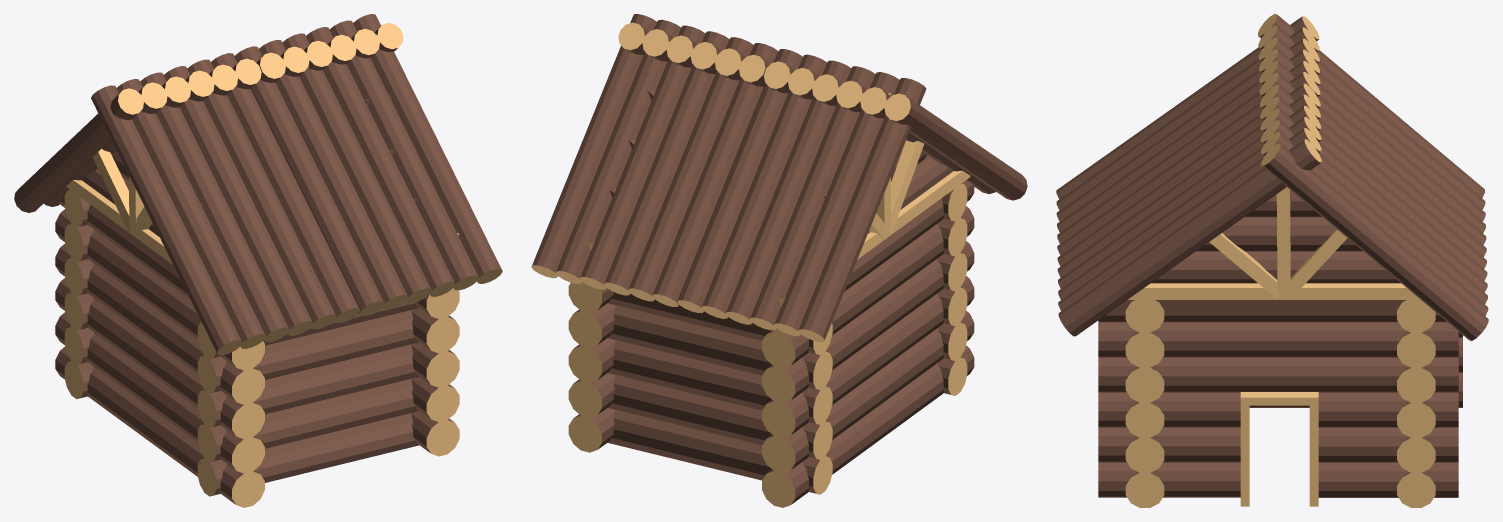
File: cabin_log_a.glb
The picture shows the model from 3 angles, left to right: view 1: azimuth 30°, elevation 25°; view 2: azimuth 150°, elevation 25°; view 3: azimuth 270°, elevation 25°; orthographic projection. The views are drawn at different scales.
Parts seen in each view (by area): view 1: Node; view 2: Node; view 3: Node.
Boxes of the visible parts, left/top/right/bottom form: Node: left=14, top=14, right=502, bottom=507; Node: left=531, top=14, right=1027, bottom=507; Node: left=1056, top=14, right=1488, bottom=507.
Bounding box in the file's own units: 0.7707 × 0.9275 × 0.9718.
